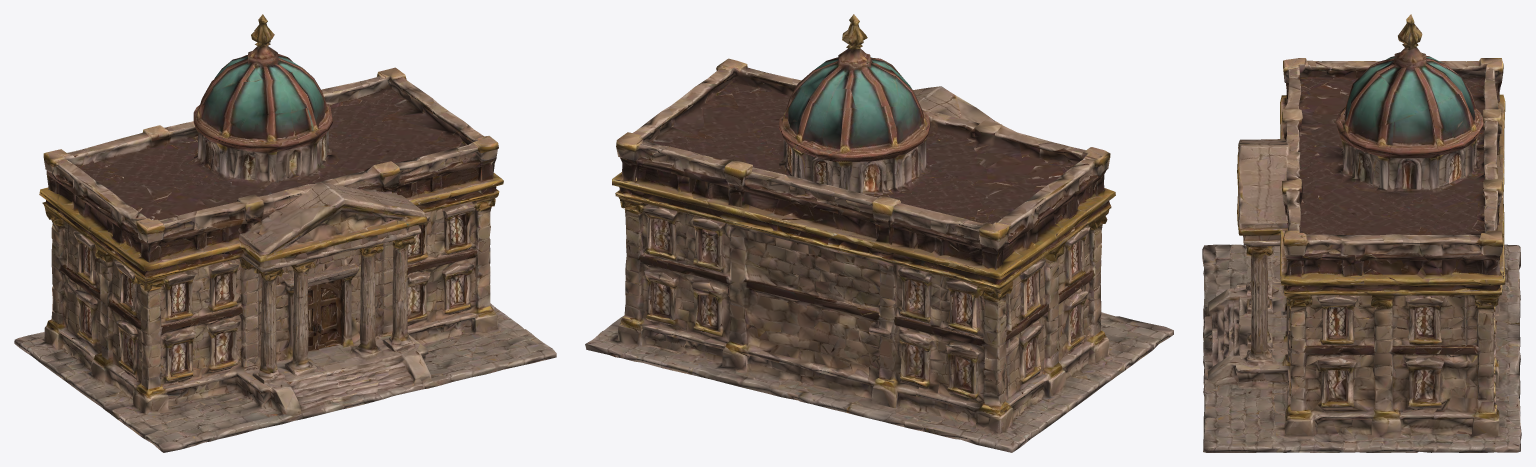
The model's file is birzha.glb.
3 views of the same model, side by side, from view 1: azimuth 30°, elevation 25°; view 2: azimuth 150°, elevation 25°; view 3: azimuth 270°, elevation 25° (orthographic). The views are drawn at different scales.
Size of the model in its own units: 1.9 by 1.47 by 1.26.
Materials: 1 (1 with a texture image).
